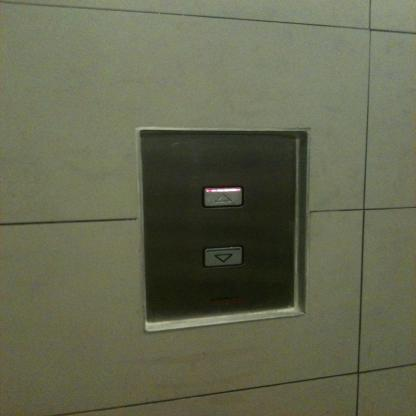down: (203, 244, 245, 270)
up: (200, 184, 244, 209)
